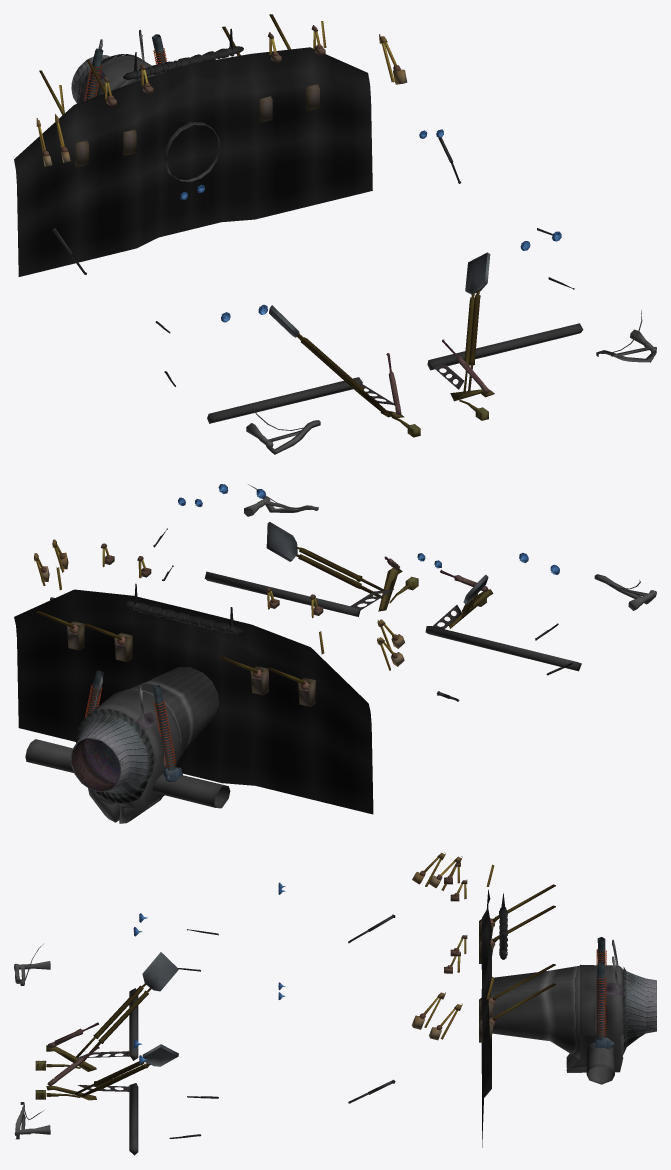
The model's file is TW_interior_d2.obj.
3 renders of one model, top to bottom at view 1: azimuth 30°, elevation 25°; view 2: azimuth 150°, elevation 25°; view 3: azimuth 270°, elevation 25°, orthographic. The views are drawn at different scales.
Visible parts, largest first — view 1: TW_interior; view 2: TW_interior; view 3: TW_interior.
Boxes of the visible parts, bbox=[...] form: TW_interior: bbox=[14, 14, 656, 454]; TW_interior: bbox=[14, 484, 656, 823]; TW_interior: bbox=[14, 852, 656, 1155].
Bounding box in the file's own units: 3.07 × 1.49 × 4.86.
Materials: 1 (1 with a texture image).
